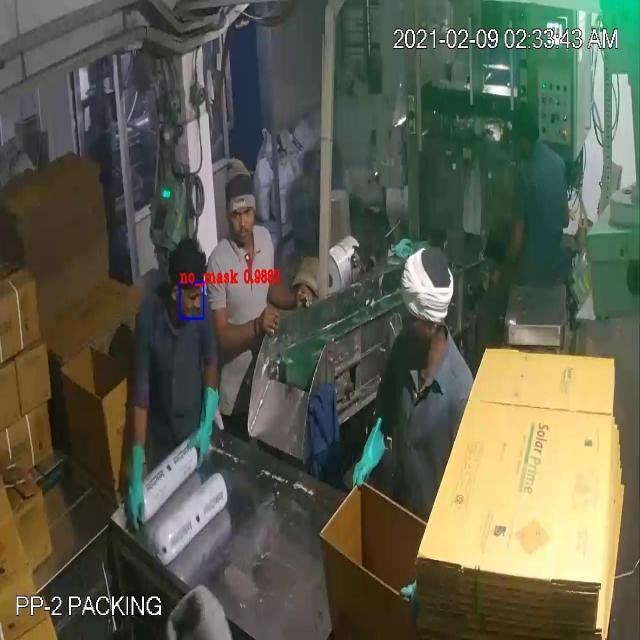Gloves: (38, 54, 504, 486)
